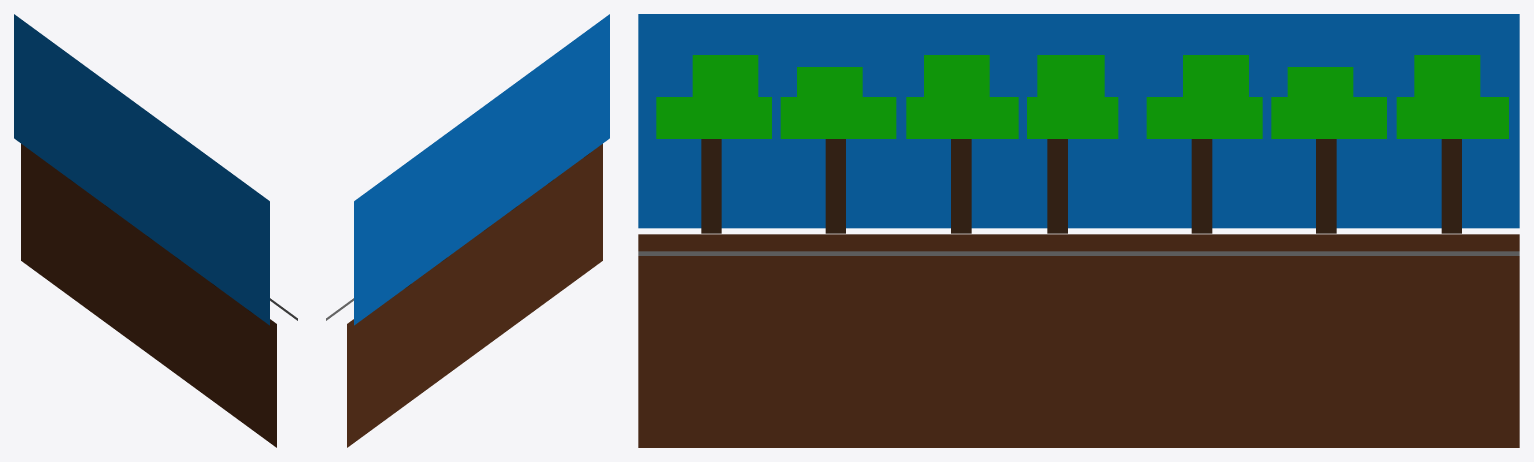
The model's file is background-01.fbx.
3 renders of one model, left to right at view 1: azimuth 30°, elevation 25°; view 2: azimuth 150°, elevation 25°; view 3: azimuth 270°, elevation 25°, orthographic. The views are drawn at different scales.
Parts seen in each view (by area): view 1: Background-01; view 2: Background-01; view 3: Background-01.
Boxes of the visible parts, x1=… form: Background-01: x1=14, y1=14, x2=297, y2=447; Background-01: x1=326, y1=14, x2=609, y2=447; Background-01: x1=638, y1=14, x2=1519, y2=447.
Size of the model in its own units: 241 by 2037 by 3800.
